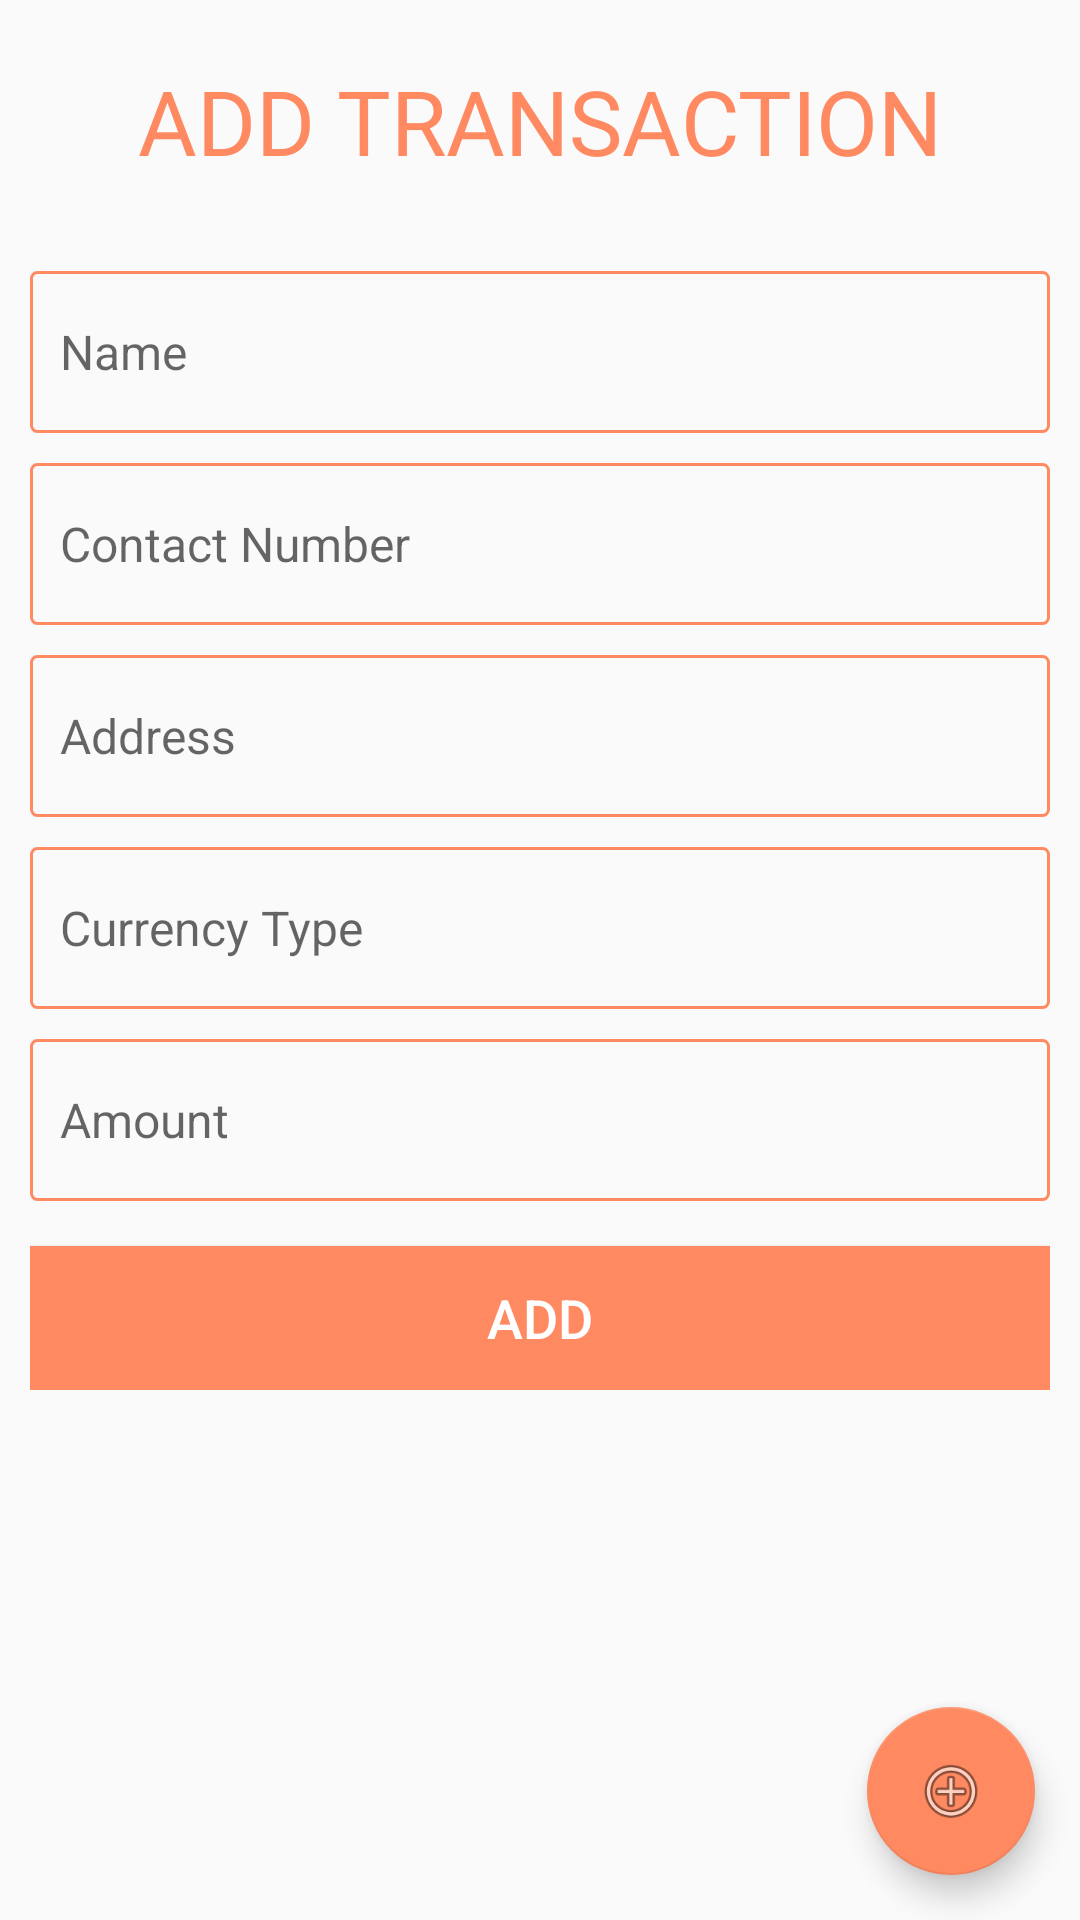

Named icons in this screenshot (1080×1920) and their centers, (x=x, y=y):
add: (x=951, y=1791)
